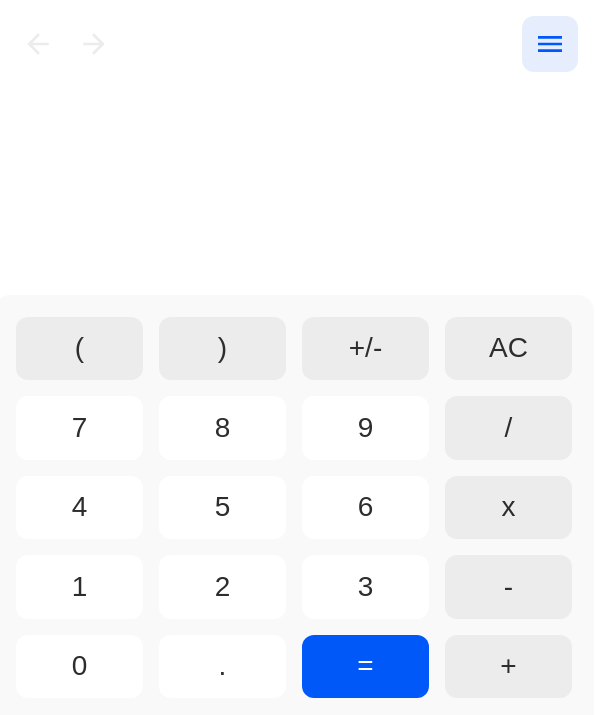
Test: Calculator › operations after new result › number after result should replace result
Click the button with id "key_2" at (222, 587), box [159,555,286,618]
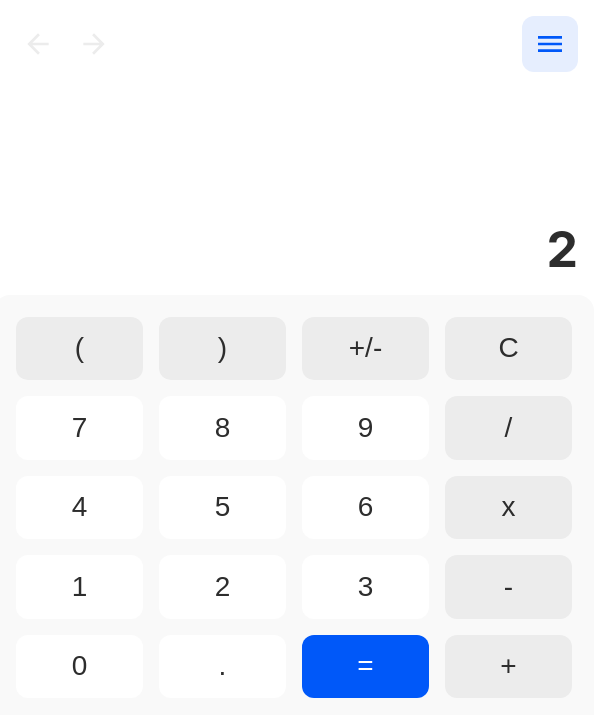
Click the button "+" at (508, 666), box [445,634,572,698]
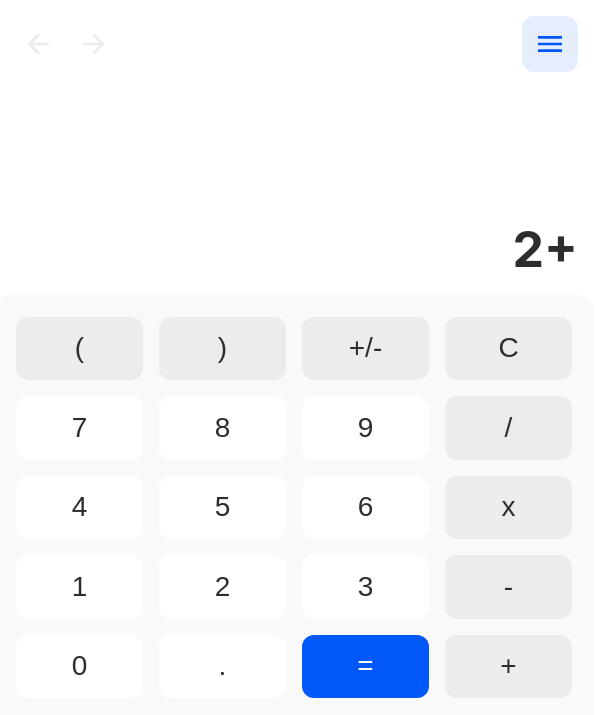
Click the button with id "key_3" at (366, 587), box [302,555,429,618]
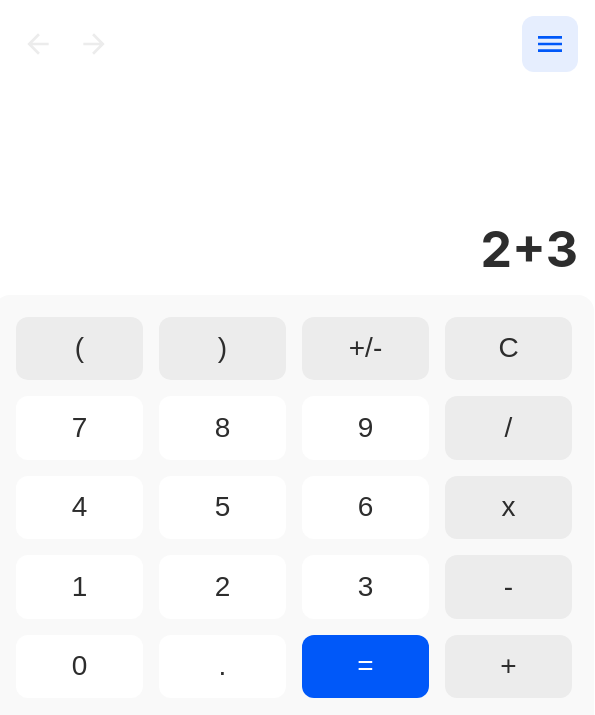
Click the button with id "key_" at (366, 666), box [302,634,429,698]
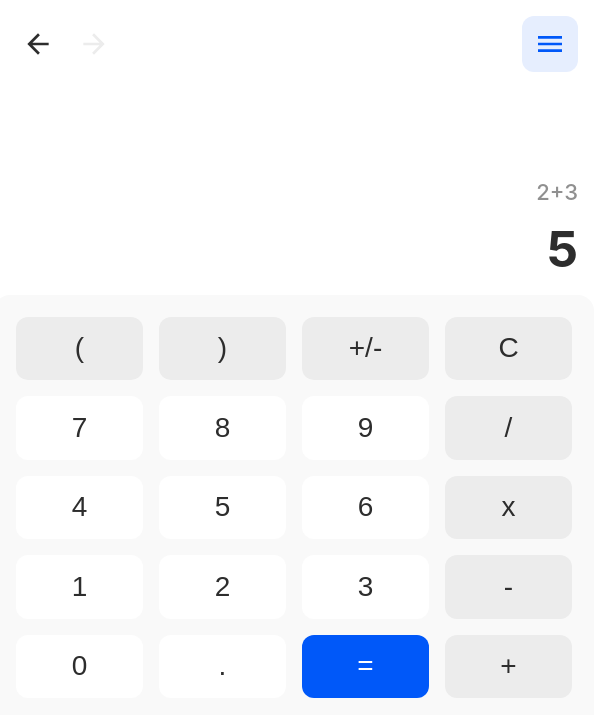
Click the button with id "key_2" at (222, 587), box [159,555,286,618]
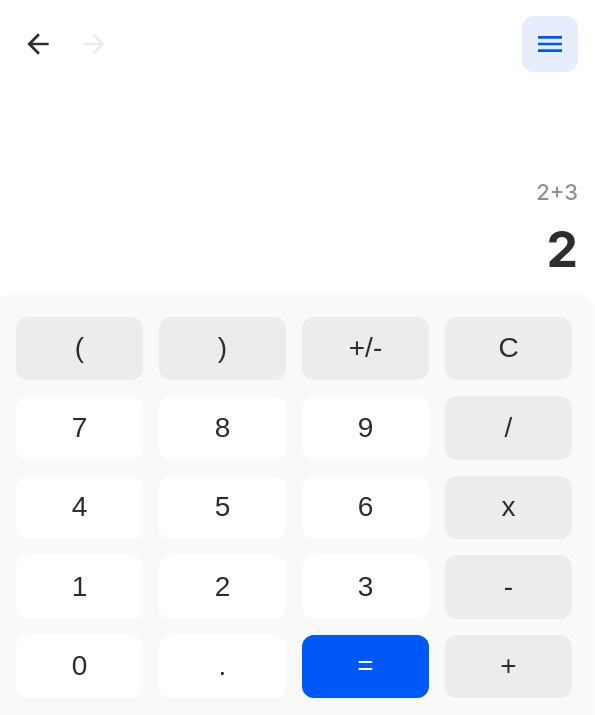
Now the text with class "historyLine" reads "2+3", box [536,178,578,204]
Now the text with class "mainLine" reads "2", box [546,218,578,278]
